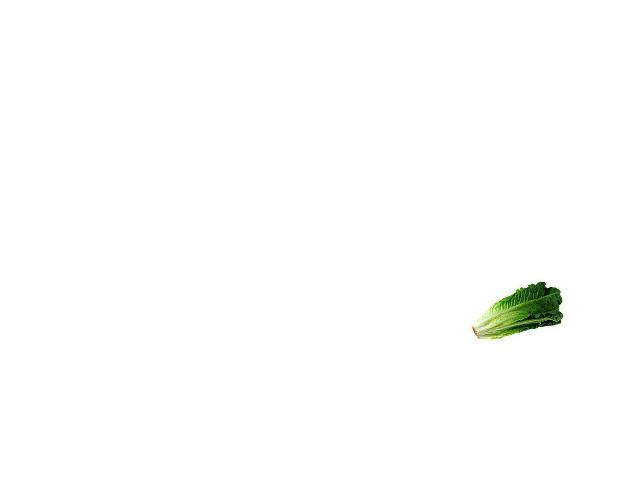lettuce: (467, 283, 565, 342)
